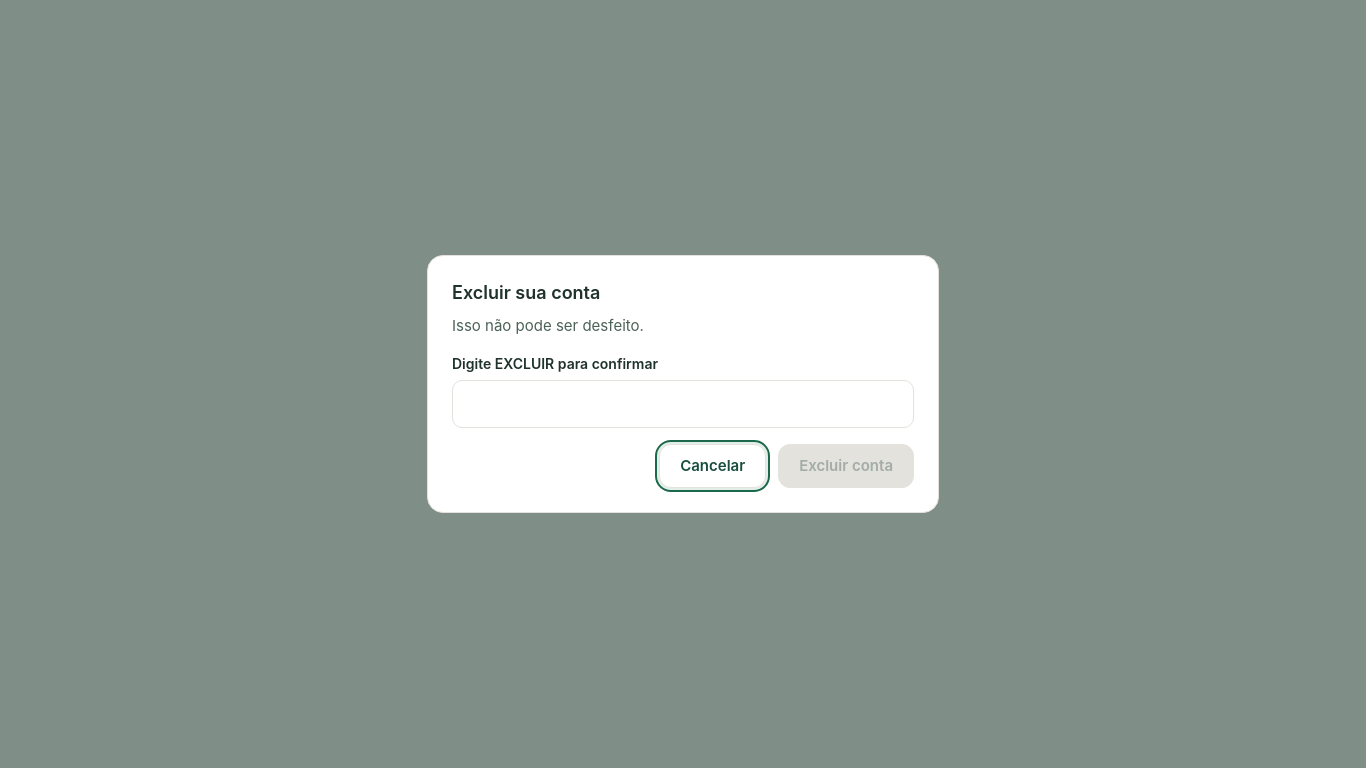
Scenario: Confirmacao › só libera ao digitar EXCLUIR exatamente
The image size is (1366, 768).
Later steps or results of the test are not shown.
Expected: the button "Excluir conta" is disabled, [778,444,914,488]
In the field labelled "Digite EXCLUIR para confirmar": (683, 404) [452,380,914,428], type "excluir"
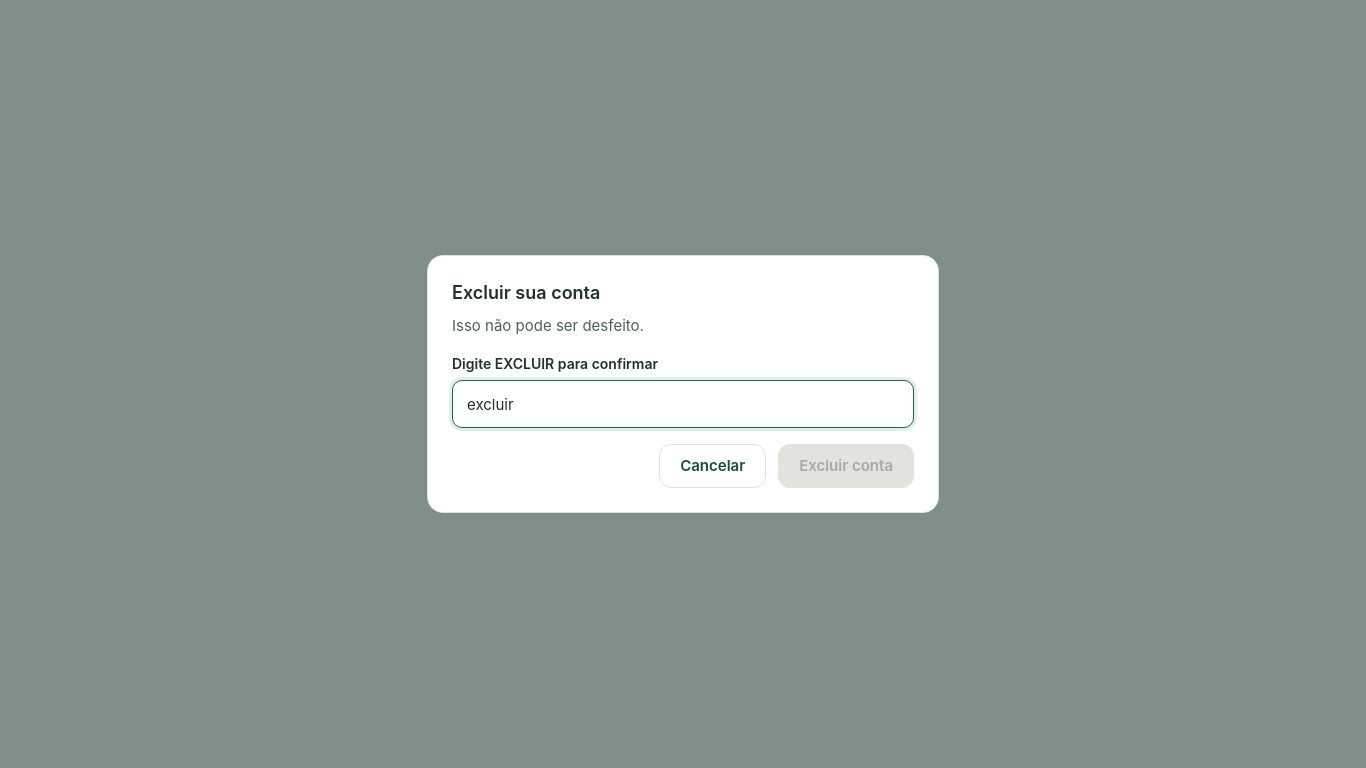
Expected: the button "Excluir conta" is disabled, [778,444,914,488]
Replace the text in the field labelled "Digite EXCLUIR para confirmar" with "EXCLUIR": (683, 404) [452,380,914,428]
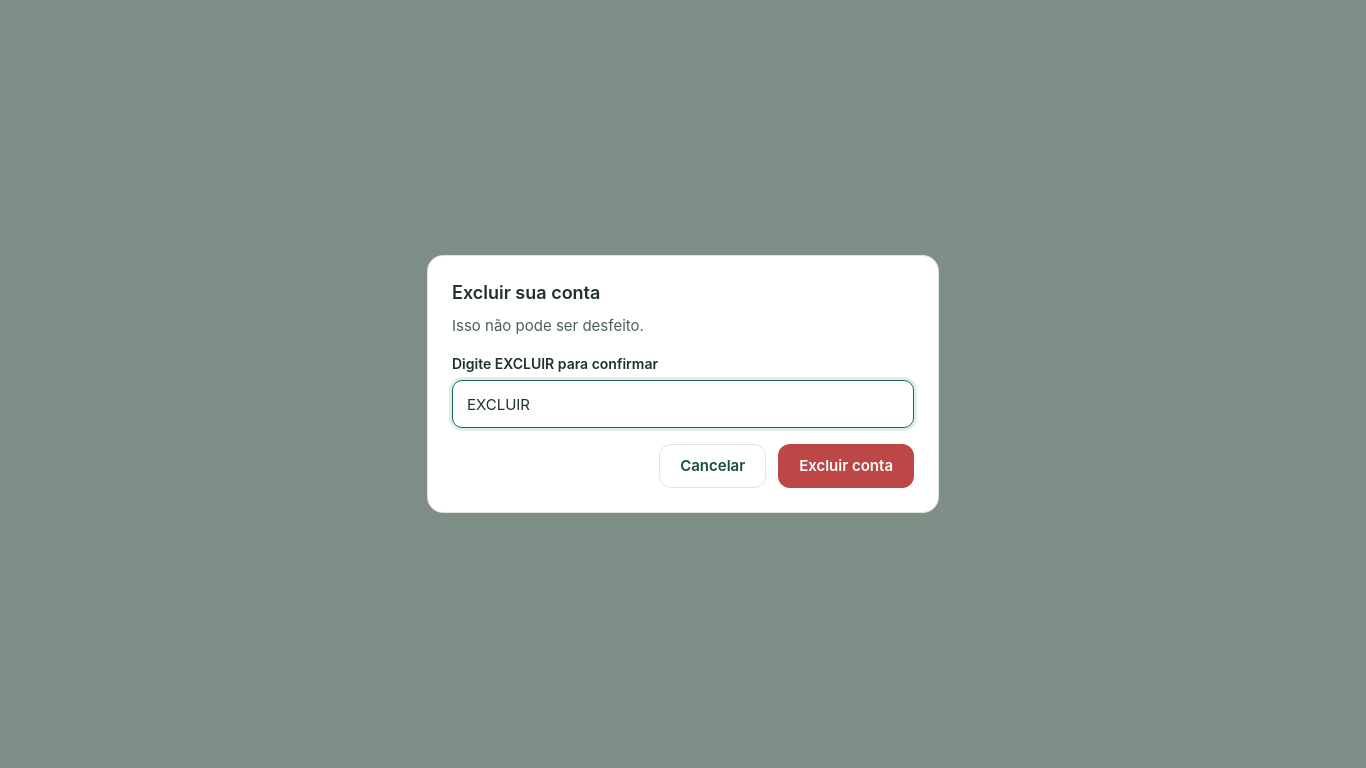
Expected: the button "Excluir conta" is enabled, [778,444,914,488]
